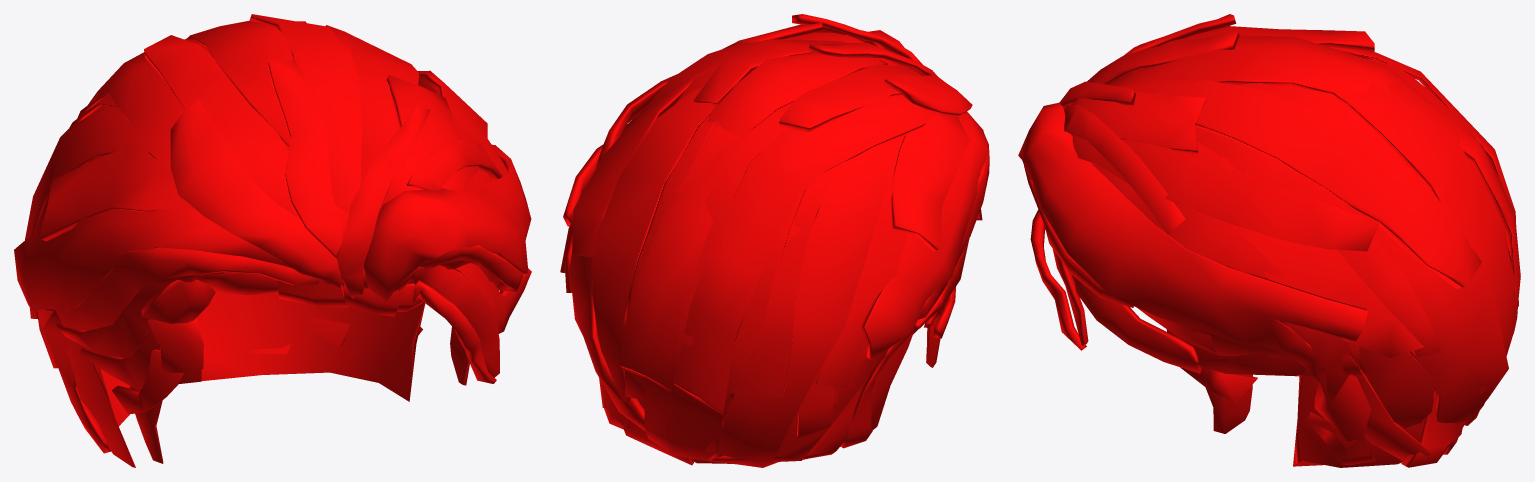
Rendered from culturalibre_hair_05_M.glb.
3 renders of one model, left to right at view 1: azimuth 30°, elevation 25°; view 2: azimuth 150°, elevation 25°; view 3: azimuth 270°, elevation 25°, orthographic. The views are drawn at different scales.
Size of the model in its own units: 0.2185 by 0.1988 by 0.2397.
Materials: 1 (1 with a texture image).
